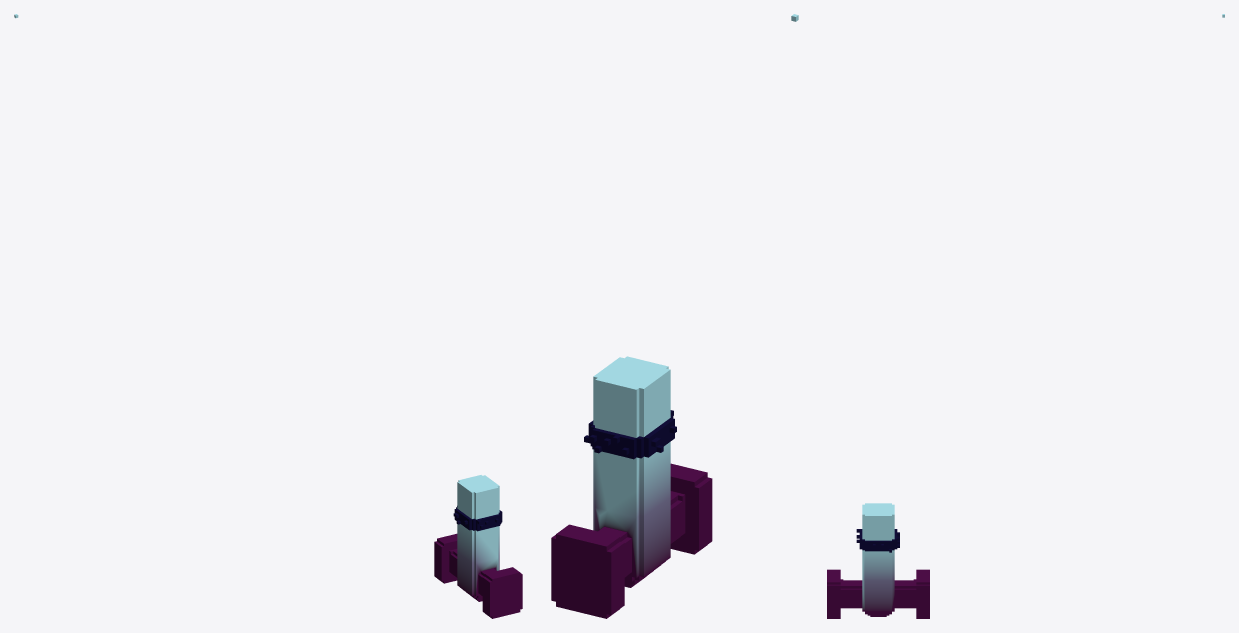
The model's file is SM_ForgeGolem_Left_Lower_Arm.fbx.
3 views of the same model, side by side, from view 1: azimuth 30°, elevation 25°; view 2: azimuth 150°, elevation 25°; view 3: azimuth 270°, elevation 25° (orthographic). The views are drawn at different scales.
Parts seen in each view (by area): view 1: SM_ForgeGolem_Left_Lower_Arm; view 2: SM_ForgeGolem_Left_Lower_Arm; view 3: SM_ForgeGolem_Left_Lower_Arm.
Boxes of the visible parts, left/top/right/bottom form: SM_ForgeGolem_Left_Lower_Arm: left=14, top=14, right=522, bottom=618; SM_ForgeGolem_Left_Lower_Arm: left=551, top=14, right=798, bottom=618; SM_ForgeGolem_Left_Lower_Arm: left=827, top=14, right=1224, bottom=618.
Size of the model in its own units: 1170 by 1940 by 1470.
